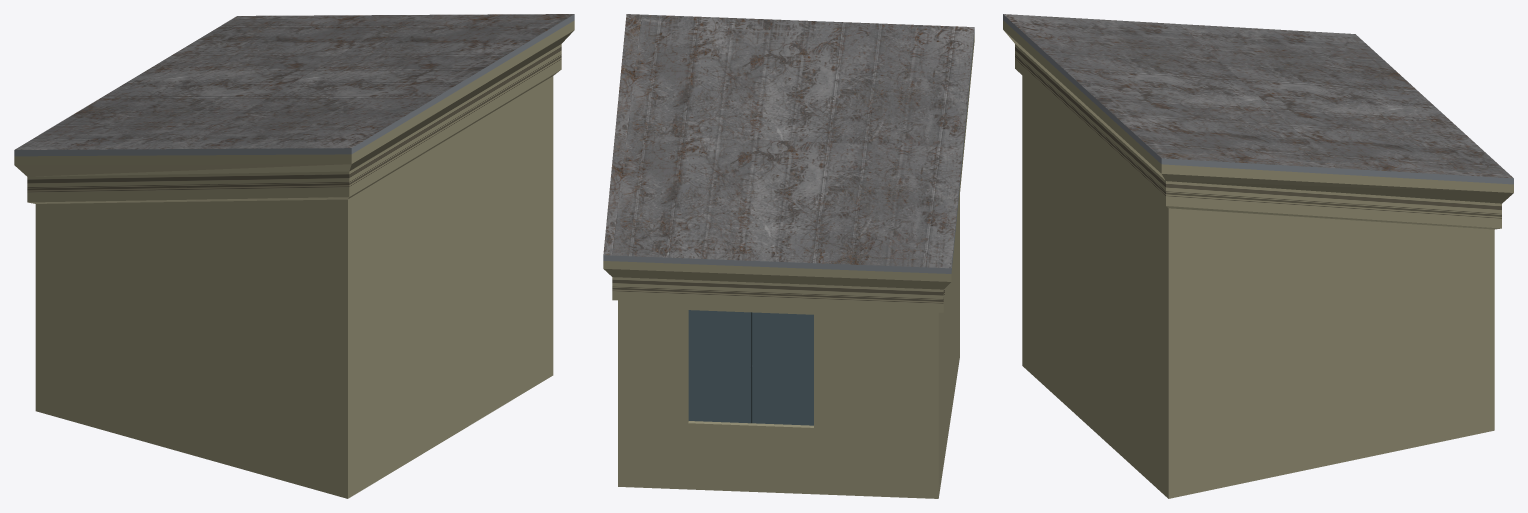
File: SmallBuilding.FBX
3 renders of one model, left to right at view 1: azimuth 30°, elevation 25°; view 2: azimuth 150°, elevation 25°; view 3: azimuth 270°, elevation 25°, orthographic. The views are drawn at different scales.
Parts seen in each view (by area): view 1: 01020-50@60835; view 2: 01020-50@60835; view 3: 01020-50@60835.
Part boxes in pixels (left/top/right/bottom): 01020-50@60835: left=14, top=14, right=574, bottom=498; 01020-50@60835: left=603, top=14, right=974, bottom=498; 01020-50@60835: left=1003, top=14, right=1513, bottom=498.
Bounding box in the file's own units: 8.94 × 6.67 × 8.84.
Materials: 1 (1 with a texture image).
